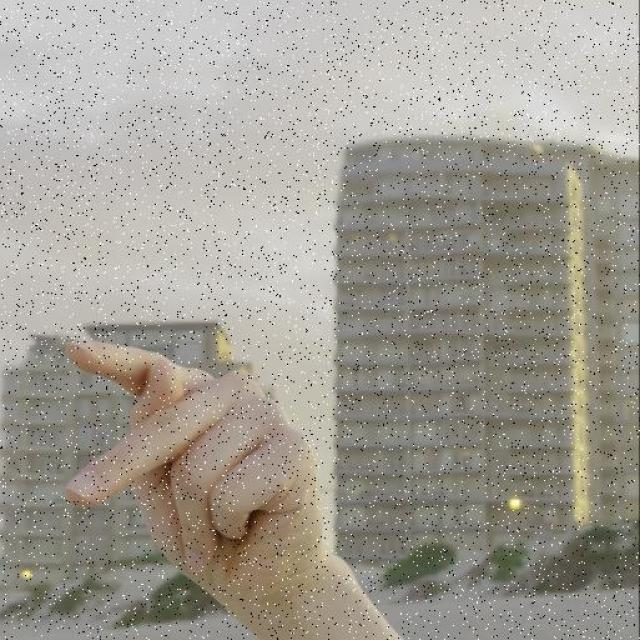P: (60, 334, 328, 608)
